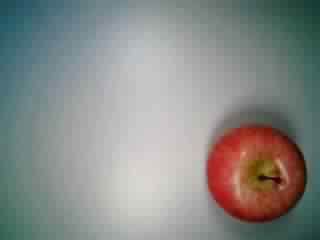apple: (202, 121, 307, 223)
